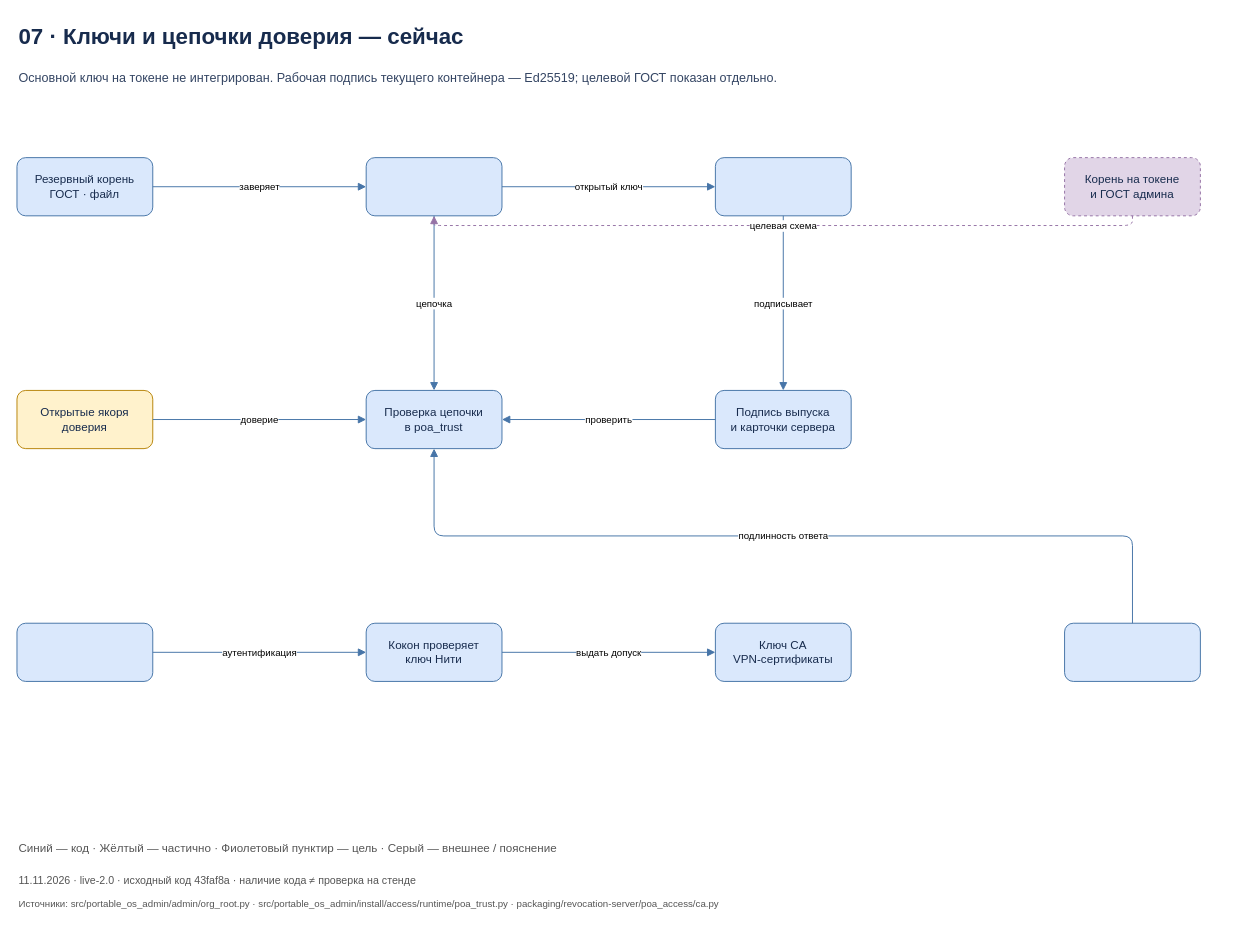
The diagram is 1237 pixels wide and 945 high, and some of its shapes have lost their labels. The centre of each missing label's shape, as x and y in pixels:
"Ключ Кокона подпись допуска" goes at point (1132, 651).
"Ключ Нити подпись запросов" goes at point (84, 651).
"Рабочий ключ Ed25519" goes at point (782, 186).
"Сертификат администратора" goes at point (433, 186).
